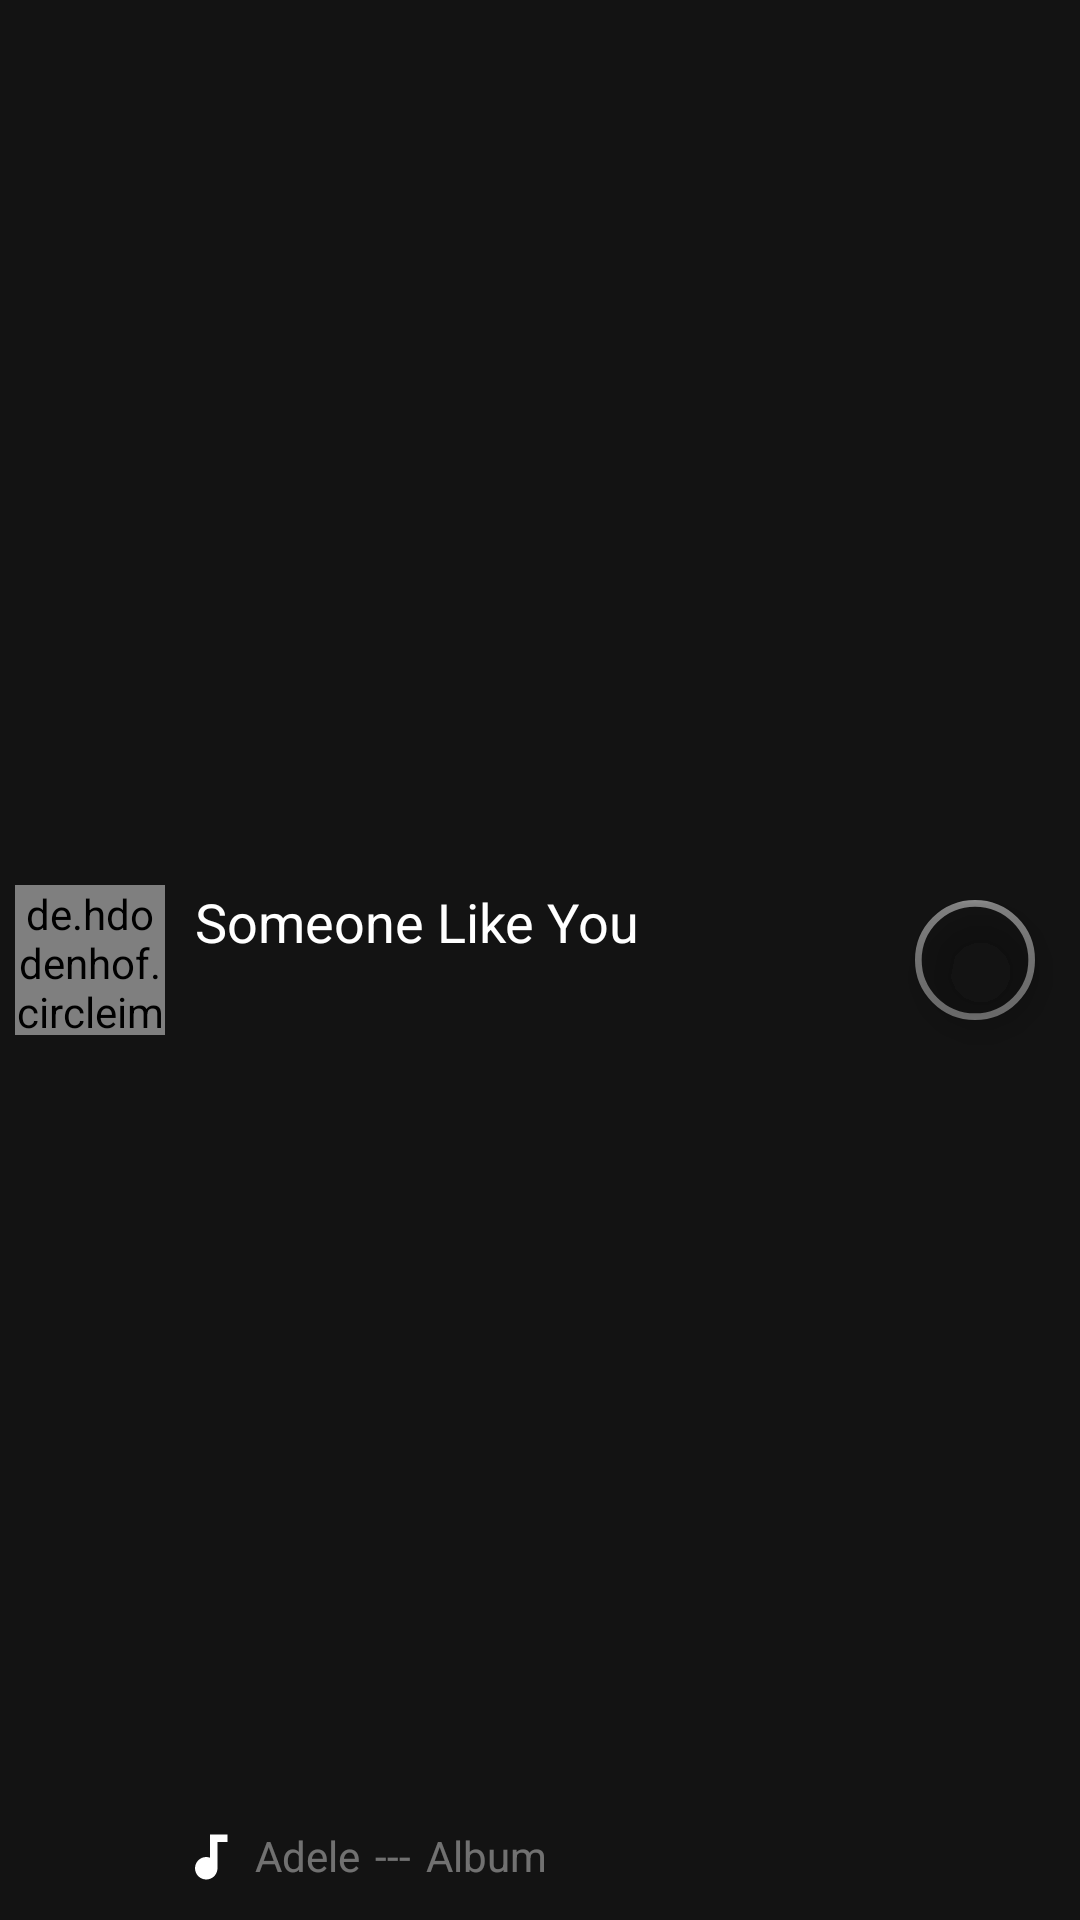

Point at icon controls on the screen. Image size 1080w x 1920h, points as point (x, y).
musical: point (211, 1857)
